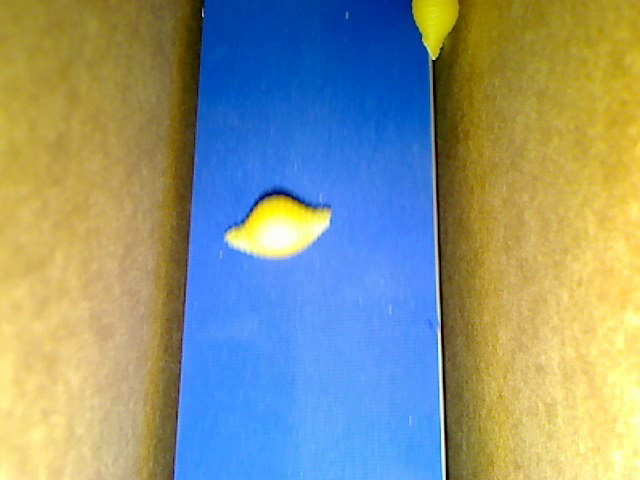shell: (224, 188, 334, 262), (409, 1, 460, 64)
